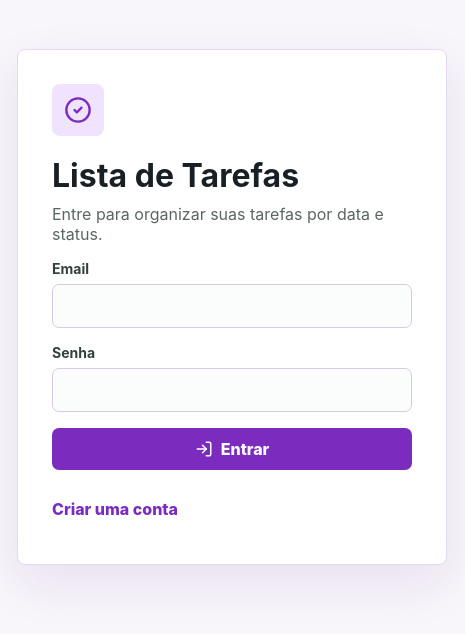
Test: Cadastro de usuario › deve exibir mensagem quando o email ja estiver cadastrado
Click the button "Criar uma conta": [115, 509] box [52,488,178,530]
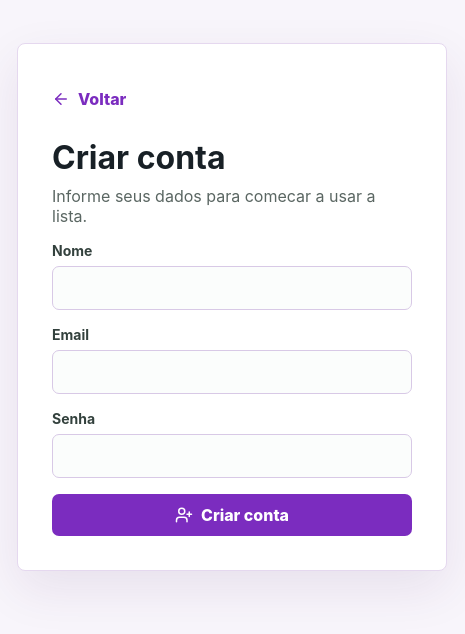
Expected: the heading "Criar conta" is shown, [52,138,226,177]
In the field labelled "Nome": [232, 288] box [52,266,412,310], type "Maria Silva"
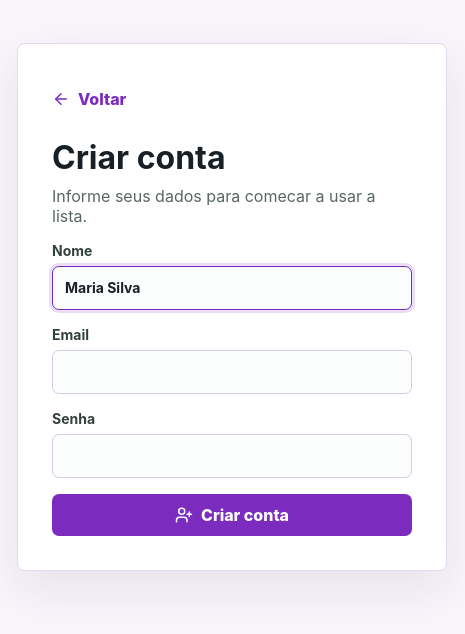
In the field labelled "Email": [232, 372] box [52,350,412,394], type "maria.silva@example.com"
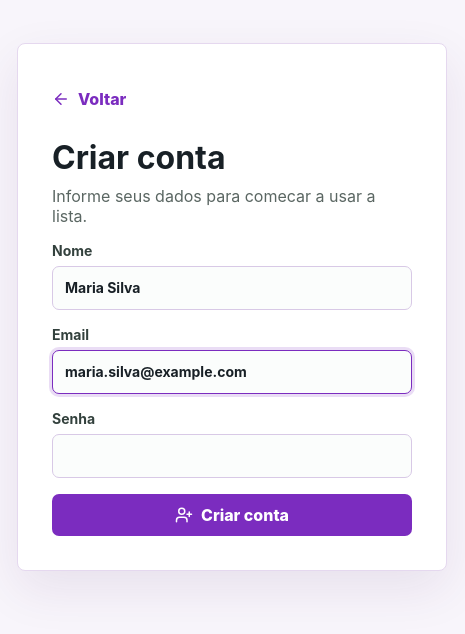
In the password field labelled "Senha": [232, 456] box [52,434,412,478], type "senha123"
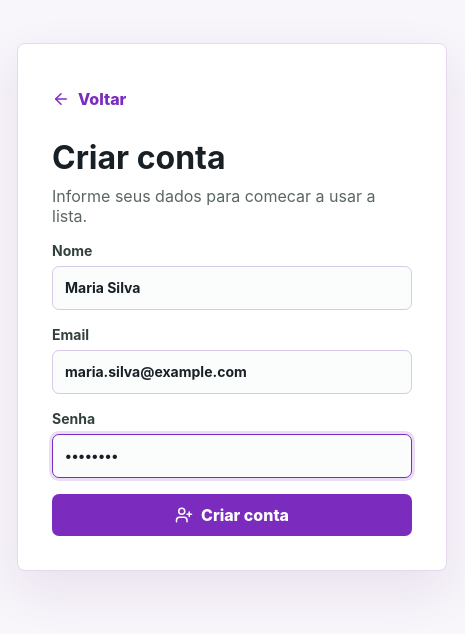
Click the button "Criar conta": [232, 515] box [52,494,412,536]
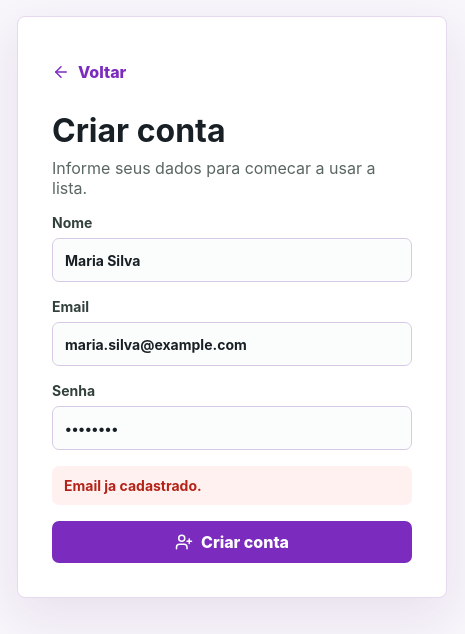
Expected: the heading "Criar conta" is shown, [52,111,226,150]
Expected: the text "Email ja cadastrado." is shown, [52,466,412,505]
